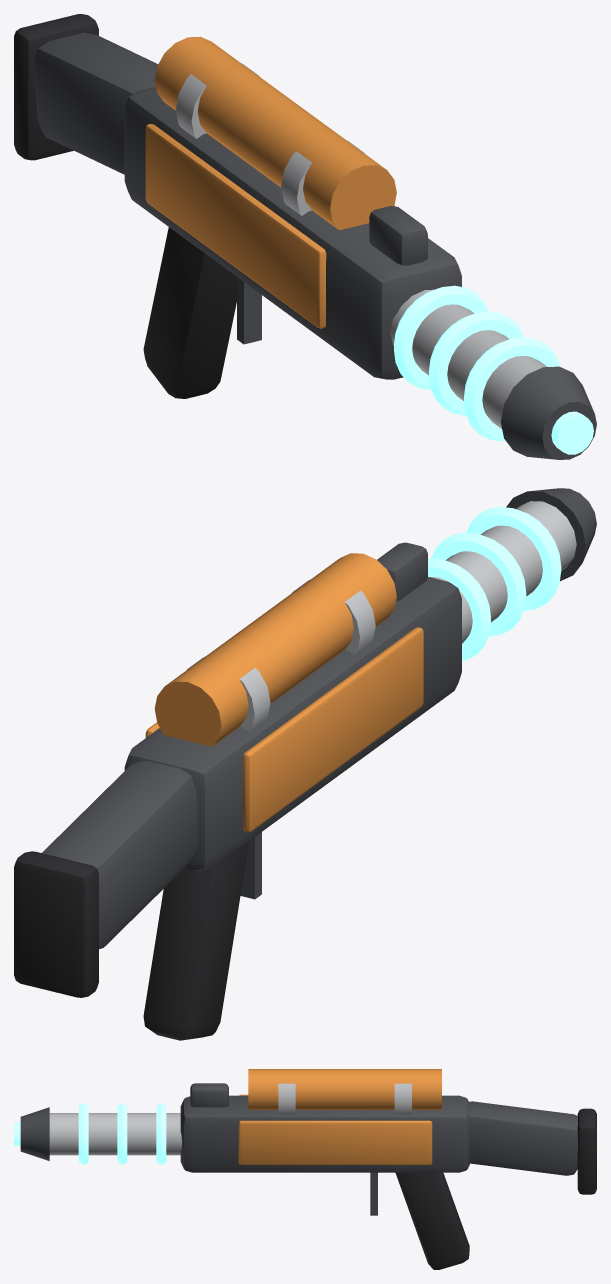
File: multitool.glb
3 renders of one model, top to bottom at view 1: azimuth 30°, elevation 25°; view 2: azimuth 150°, elevation 25°; view 3: azimuth 270°, elevation 25°, orthographic. The views are drawn at different scales.
Parts seen in each view (by area): view 1: multitool; view 2: multitool; view 3: multitool.
Part boxes in pixels (x1,y1,x2,y2): multitool: [14, 14, 596, 459]; multitool: [14, 488, 596, 1040]; multitool: [14, 1069, 596, 1269].
Bounding box in the file's own units: 0.07 × 0.2227 × 0.602.
